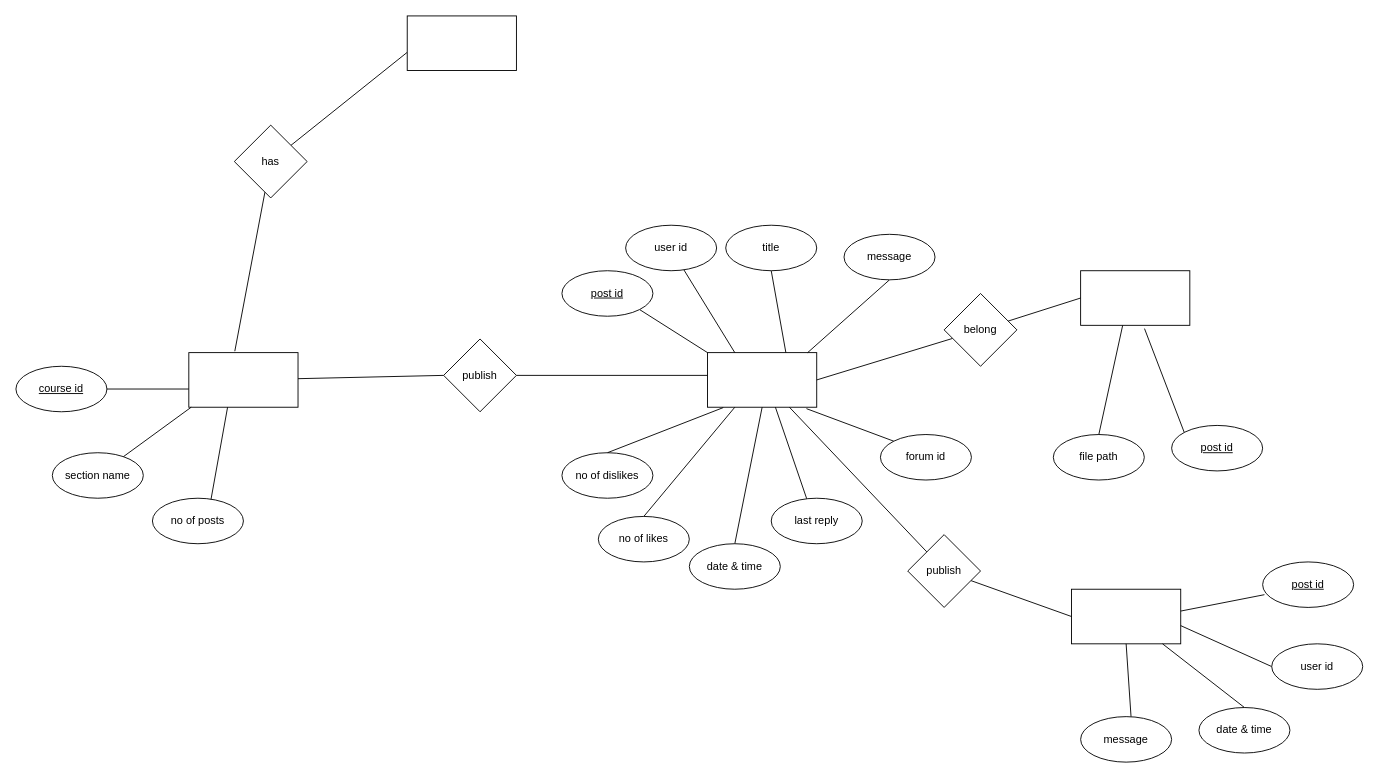
Image size: 1379x778. Some labels were removed from this diagram. Each missing label, with the centre of its shape:
Attachment: the point at 1135,297
Course: the point at 461,43
forum: the point at 243,379
Post: the point at 762,379
reply: the point at 1126,616
